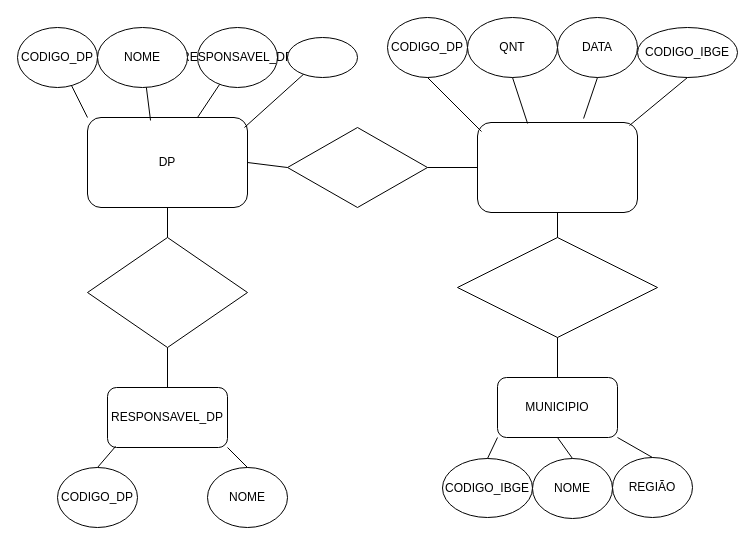
Image size: 755x545. Some labels were removed from this diagram. Here are the shapes that lost their labels. From the top down, the centre of each, then its label:
At [322,57]: "ENDEREÇO".
At [357,167]: "REGISTRA".
At [557,167]: "OCORRENCIA".
At [167,292]: "COORDENA".
At [557,287]: "POSSUI_REGISTROS_DE".
